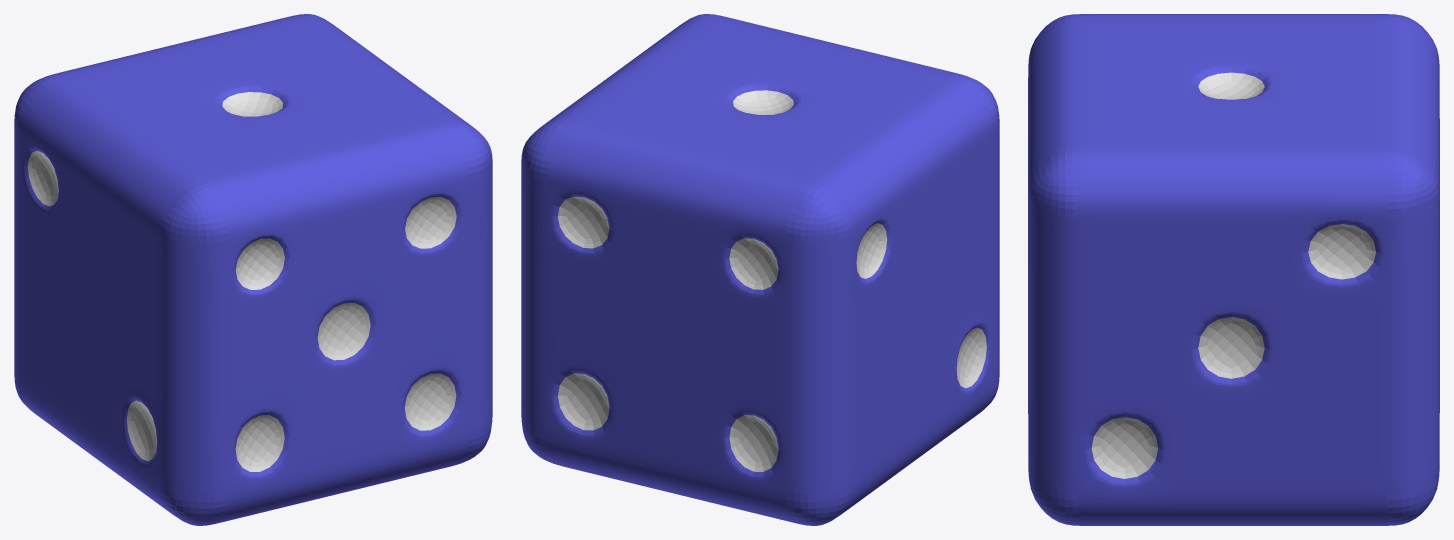
File: blue.fbx
3 views of the same model, side by side, from view 1: azimuth 30°, elevation 25°; view 2: azimuth 150°, elevation 25°; view 3: azimuth 270°, elevation 25° (orthographic). The views are drawn at different scales.
Visible parts, largest first — view 1: Cube.001; view 2: Cube.001; view 3: Cube.001.
Boxes of the visible parts, bbox=[...] form: Cube.001: bbox=[14, 14, 492, 525]; Cube.001: bbox=[521, 14, 999, 525]; Cube.001: bbox=[1028, 14, 1439, 525].
Size of the model in its own units: 1 by 1 by 1.
